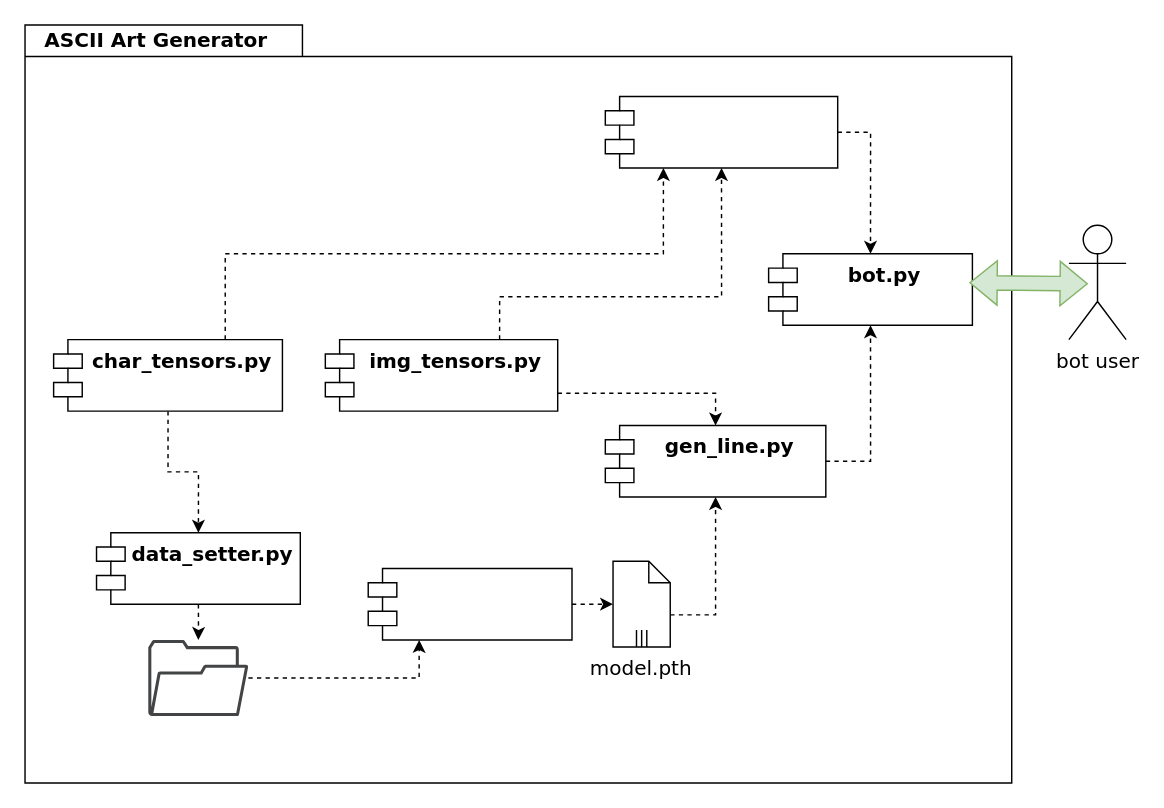
This 1164x808 diagram has some shape labels left out. The box of each missing label's shape, as (x1, y1, x2, y2) in pixels:
gen_shading.py: (604, 95, 838, 168)
train.py / train_pre.py: (367, 567, 572, 640)
trainset: (148, 639, 248, 715)
